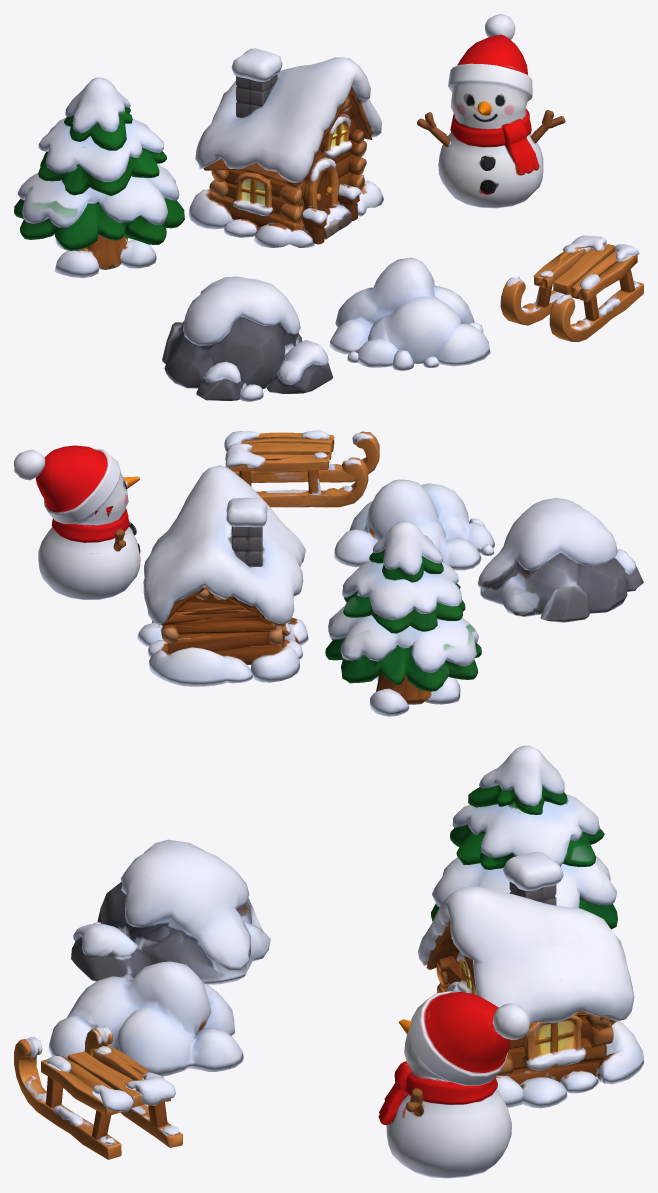
The model's file is props_snow.glb.
3 renders of one model, top to bottom at view 1: azimuth 30°, elevation 25°; view 2: azimuth 150°, elevation 25°; view 3: azimuth 270°, elevation 25°, orthographic. The views are drawn at different scales.
Size of the model in its own units: 0.9536 by 0.3286 by 0.9004.
Materials: 1 (1 with a texture image).
